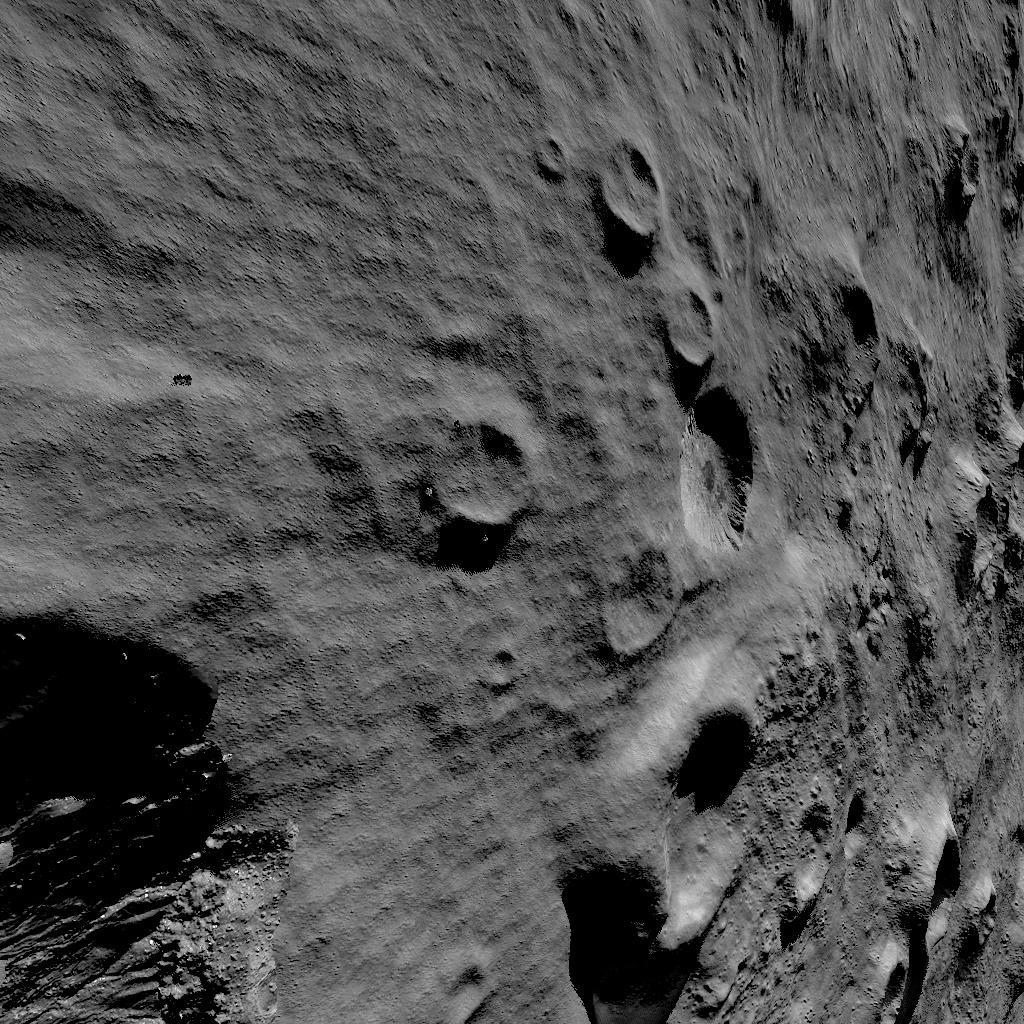Boulders: (0, 598, 216, 1024)
Crater: (546, 664, 766, 1024), (588, 140, 753, 550), (786, 765, 1024, 1024), (774, 282, 936, 476), (952, 298, 1024, 642), (898, 112, 1020, 258), (418, 415, 540, 540), (731, 0, 1003, 53)
Plan surface: (0, 0, 558, 395), (238, 565, 526, 1024), (0, 410, 341, 553)
